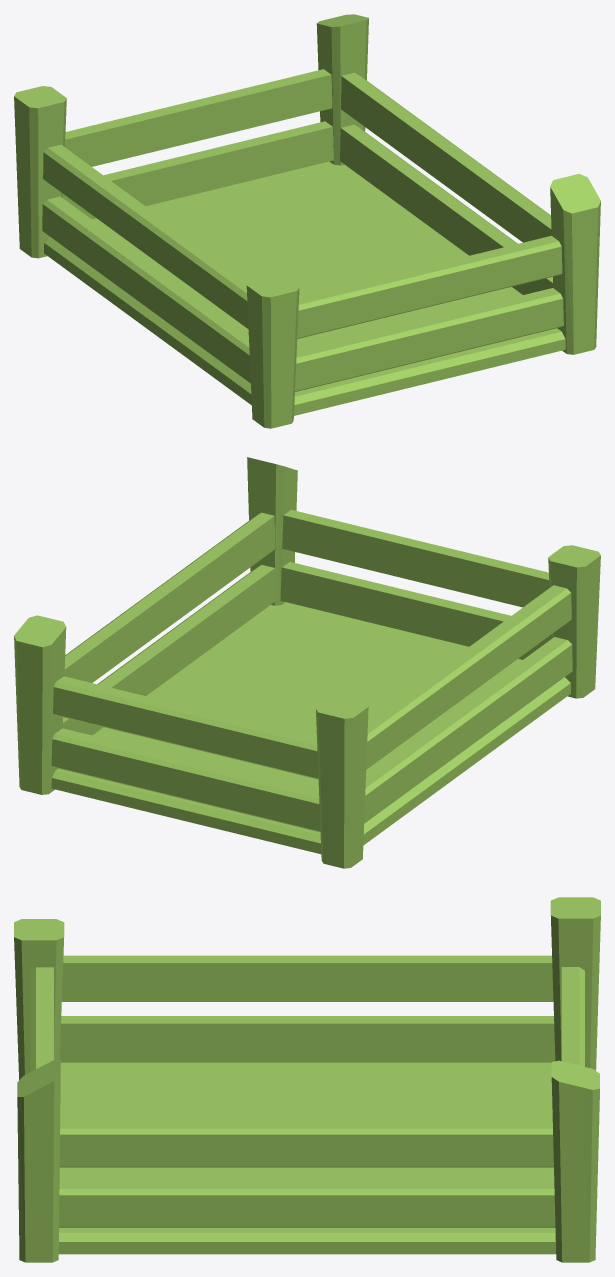
Rendered from cratebox_d.gltf.
3 views of the same model, one above another, from view 1: azimuth 30°, elevation 25°; view 2: azimuth 150°, elevation 25°; view 3: azimuth 270°, elevation 25° (orthographic). The views are drawn at different scales.
Visible parts, largest first — view 1: cratebox_d001; view 2: cratebox_d001; view 3: cratebox_d001.
Part boxes in pixels (x1,y1,x2,y2): cratebox_d001: [14, 14, 600, 428]; cratebox_d001: [14, 457, 600, 868]; cratebox_d001: [14, 897, 600, 1262].
Bounding box in the file's own units: 0.4993 × 0.2277 × 0.6468.
1 material, 1 textured.
